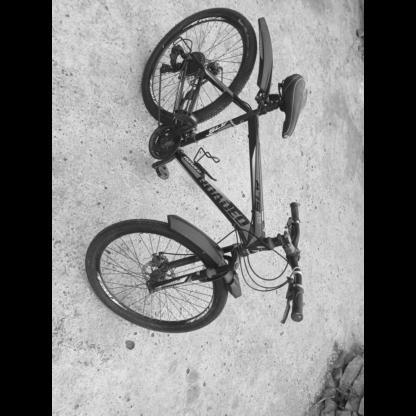Bicycle: (71, 1, 340, 370)
